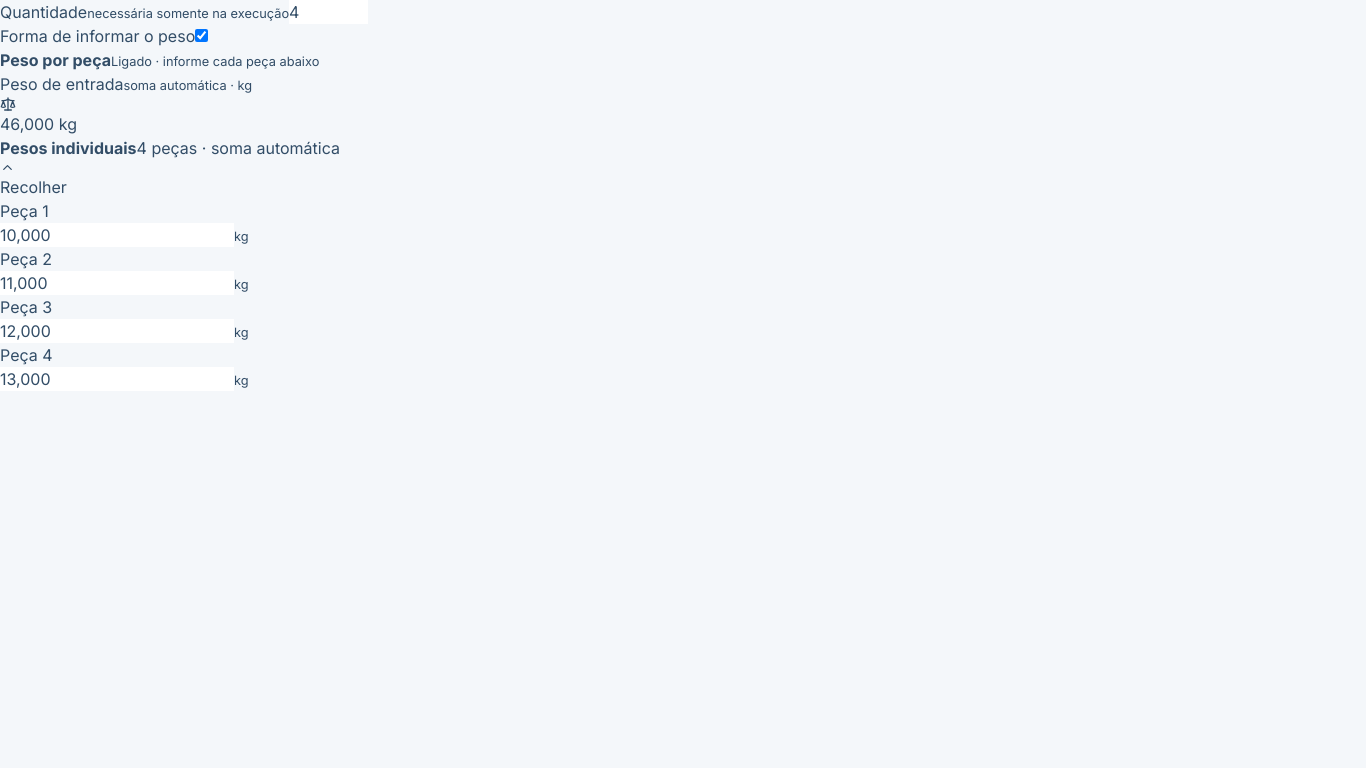
it: módulo Teste de Rendimento integrado ao backend › preserva pesos ao aumentar a quantidade e confirma antes de perder peças preenchidas
Replace the text in the number field with "5": [329, 12] box x1=289 y1=0 x2=368 y2=24
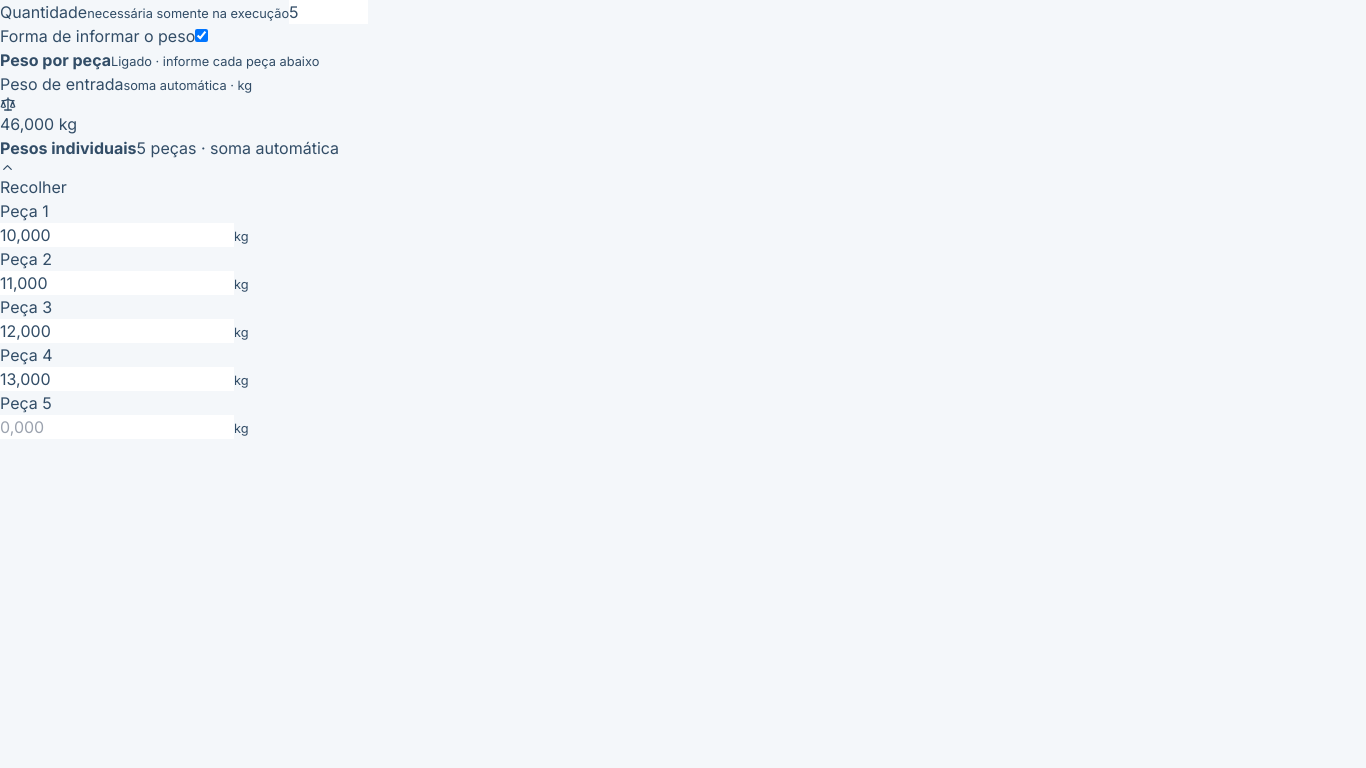
Expected: the field labelled "Peça 1" holds "10,000", x1=0 y1=223 x2=234 y2=247
Expected: the field labelled "Peça 5" is empty, x1=0 y1=415 x2=234 y2=439
Replace the text in the number field with "3": [329, 12] box x1=289 y1=0 x2=368 y2=24
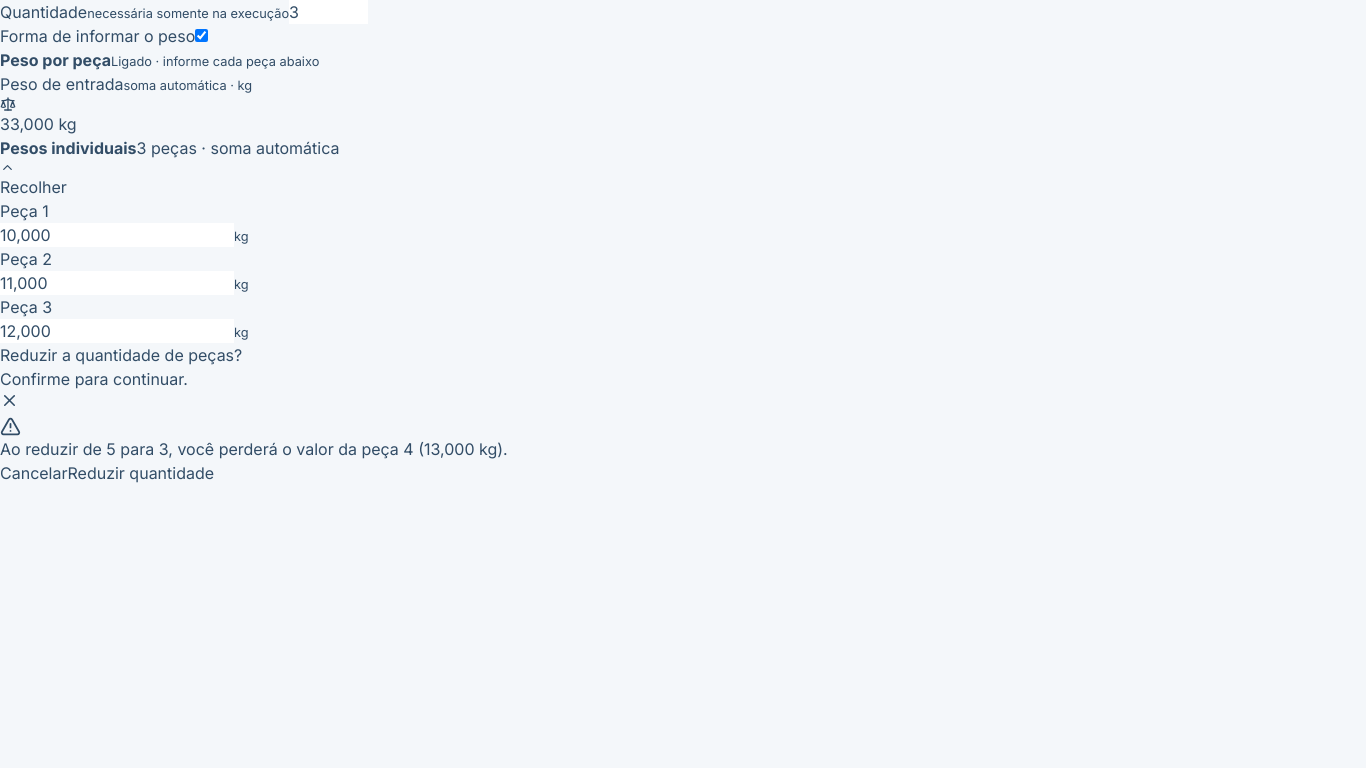
Expected: the heading "Reduzir a quantidade de peças?" is shown, x1=0 y1=345 x2=242 y2=365
Expected: the text "peça 4 (13,000 kg)" is shown, x1=0 y1=439 x2=508 y2=459
Click the button "Reduzir quantidade": [141, 473] box x1=68 y1=461 x2=214 y2=485
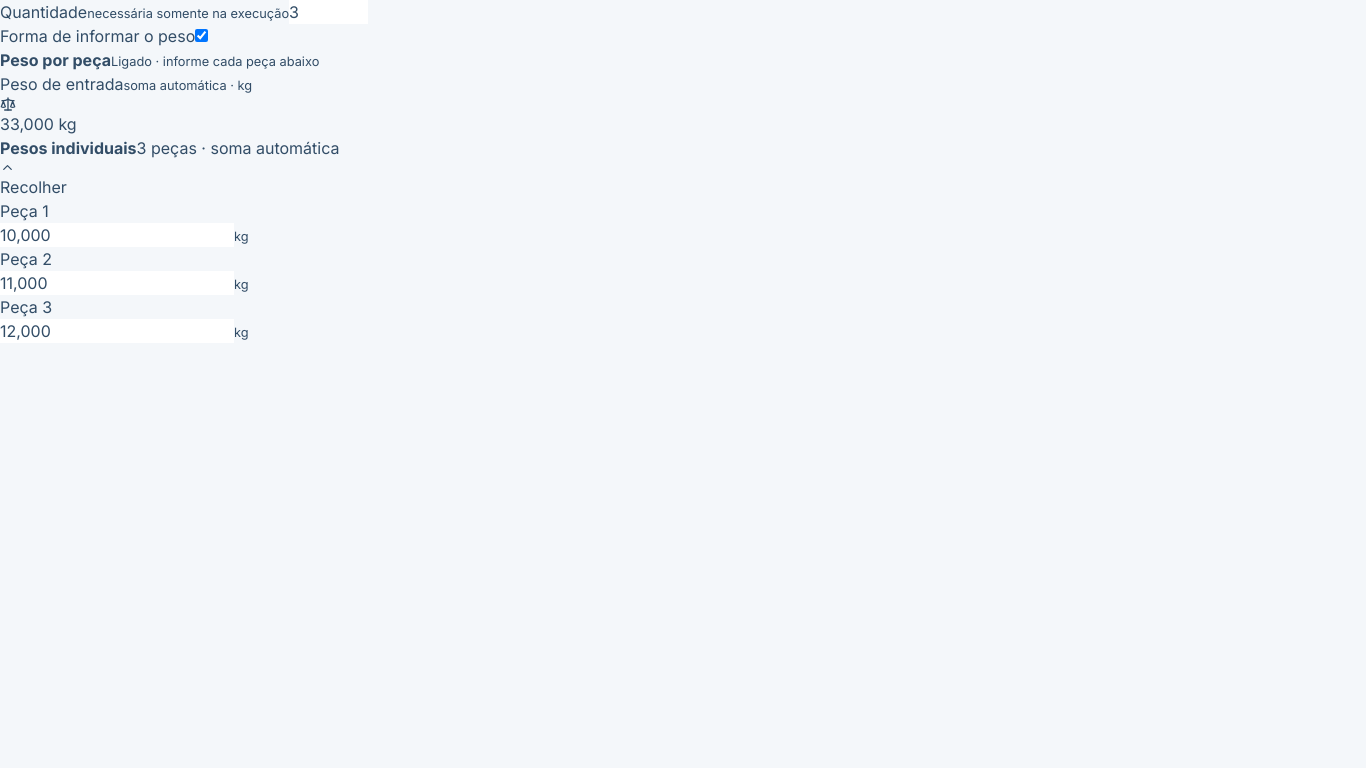
Expected: the field labelled "Peça 3" holds "12,000", x1=0 y1=319 x2=234 y2=343
Expected: the text labelled "peça 4" is gone
